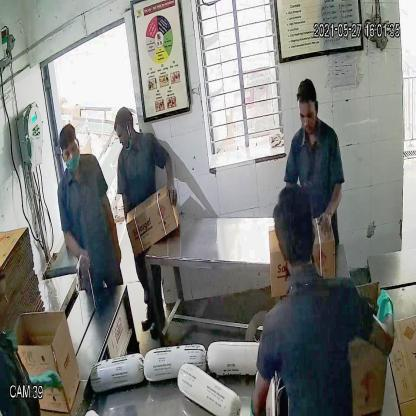no_goggles: (57, 139, 83, 163), (297, 104, 320, 125)
